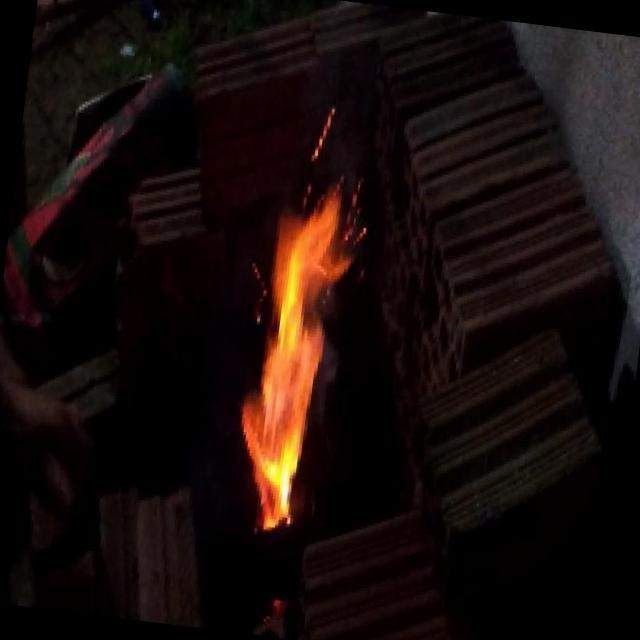fire: (177, 124, 424, 578)
